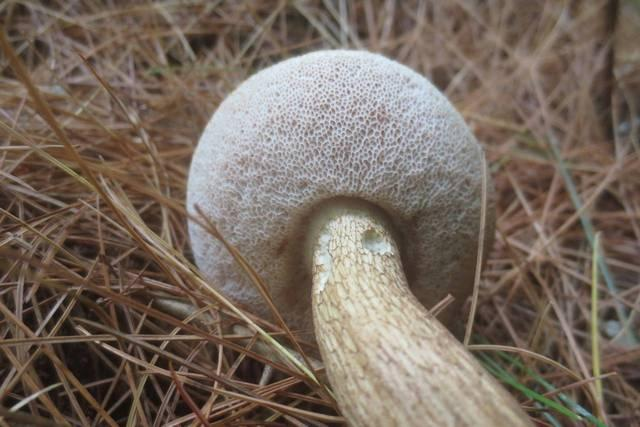poisonous_mushroom: (182, 41, 543, 427)
